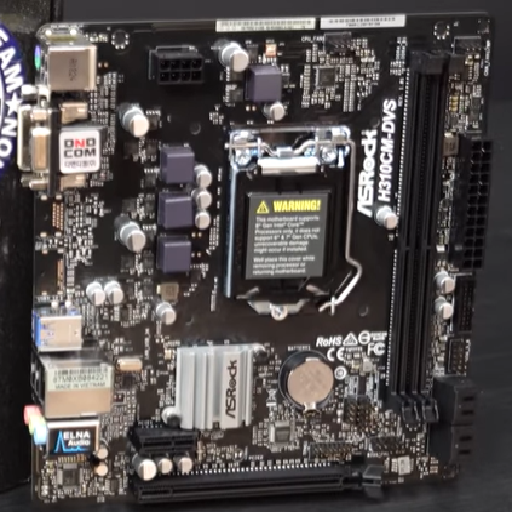CPU: (225, 126, 352, 315)
GPU: (133, 456, 385, 507)
MOTHERBOARD: (24, 8, 492, 500)
RAM: (382, 44, 451, 427)
